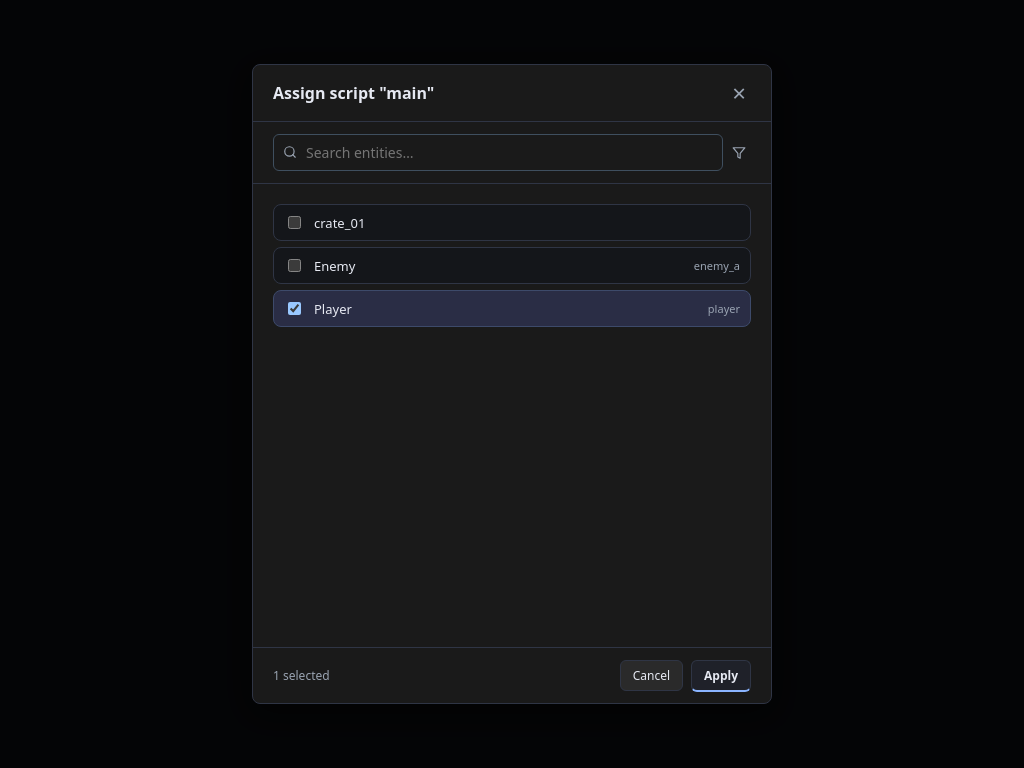
Test case: AssignEntitiesDialog › filters entities by search and shows selection count
Expected: the text with test id "assign-entities-count" reads "1 selected", [273,667,330,684]
Expected: the text "Player player" is shown, [273,290,751,327]
Type "enemy" into the field with test id "assign-entities-search-input" at (498, 152), box [273,134,723,171]
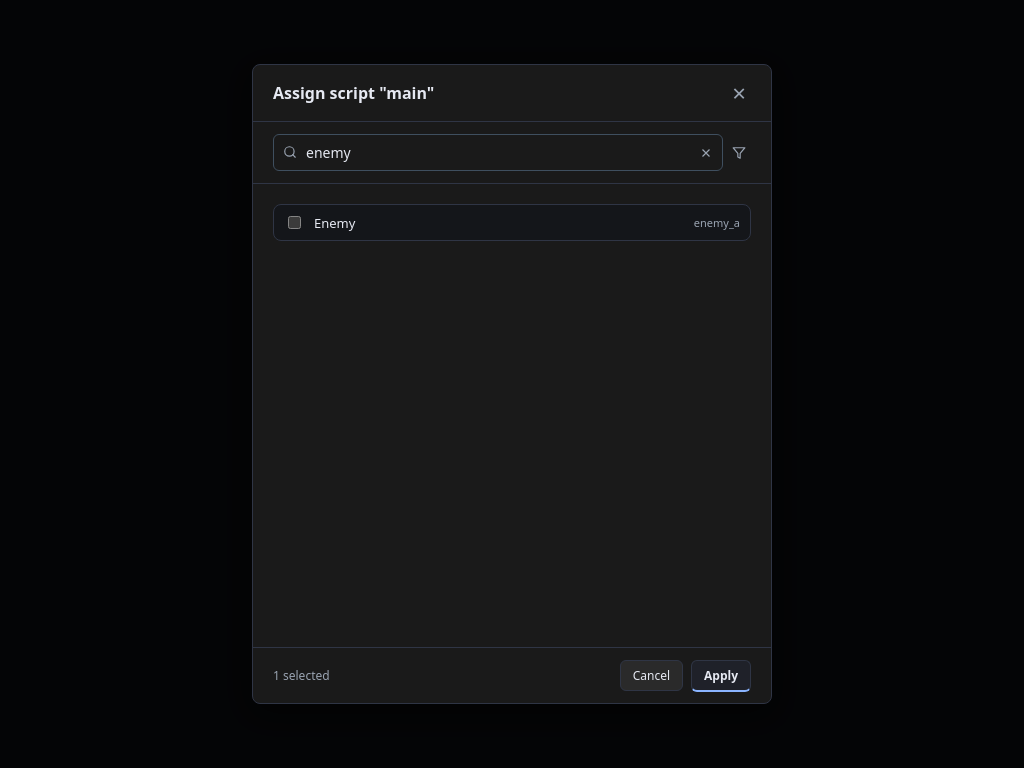
Expected: the text "Enemy enemy_a" is shown, [273,204,751,241]
Expected: the label with test id "assign-entity-player" is gone
